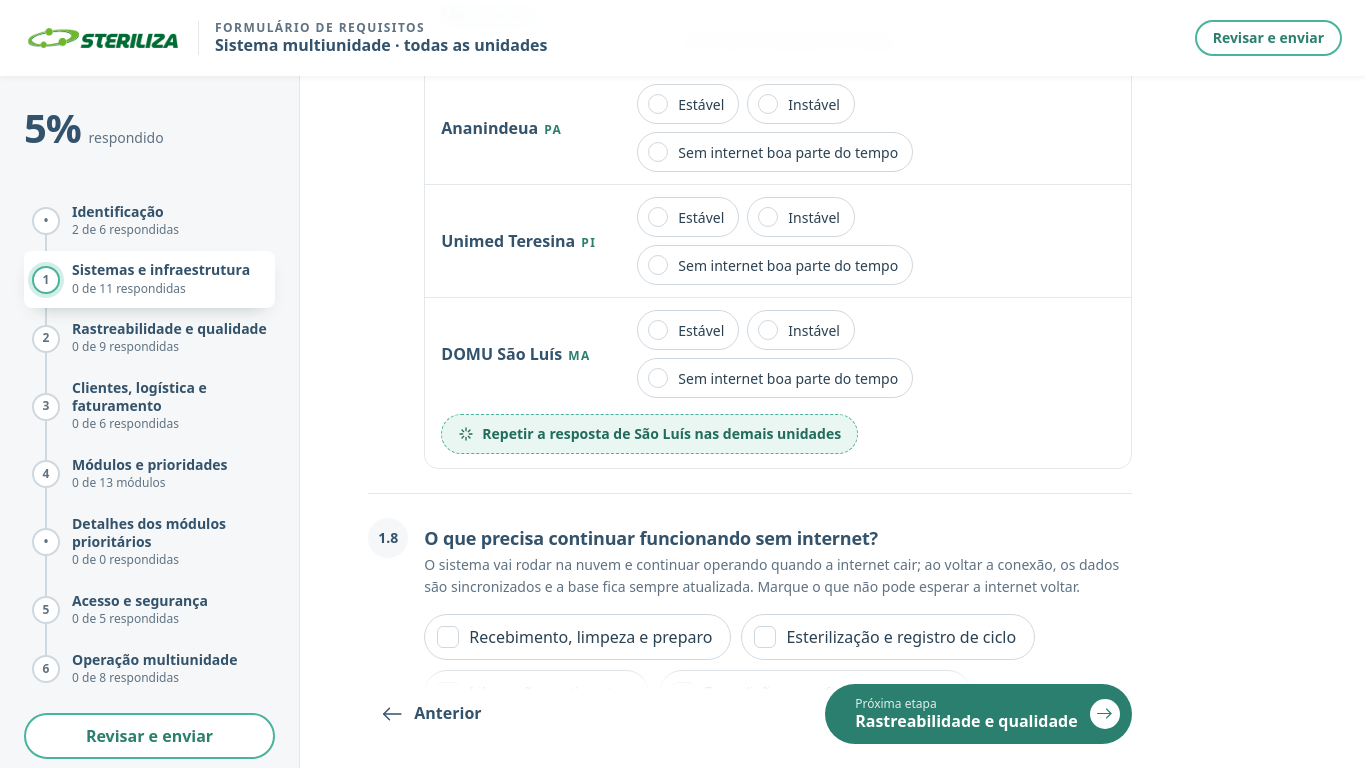
Test: perguntas por unidade › repete a resposta da primeira unidade nas demais
(page scrolled)
Click the button "Repetir a resposta de São Luís nas demais unidades": {"x": 650, "y": 434} x1=441 y1=414 x2=858 y2=454
(page scrolled)
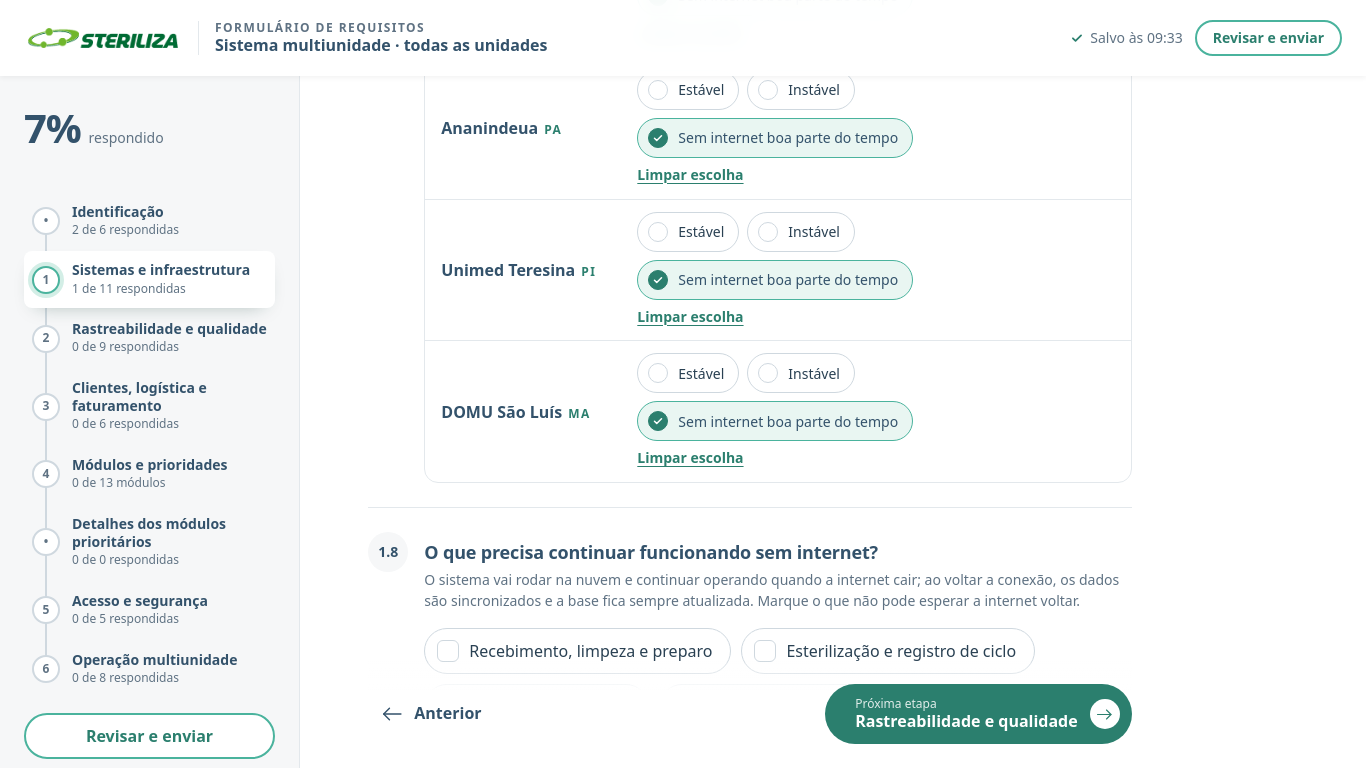
Result: the button "Repetir" is gone
